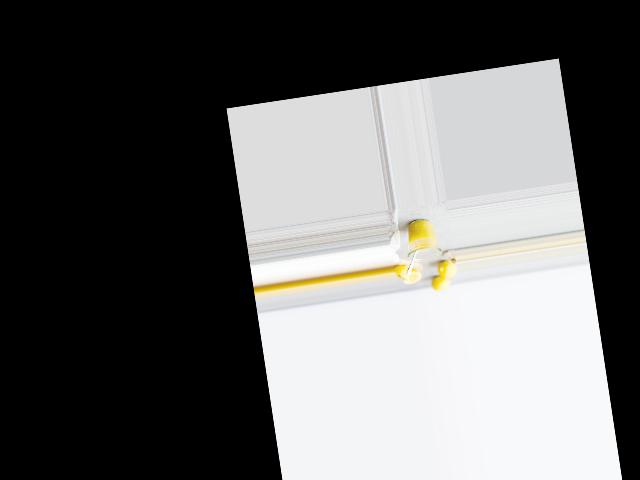lemon: (431, 276, 454, 294)
